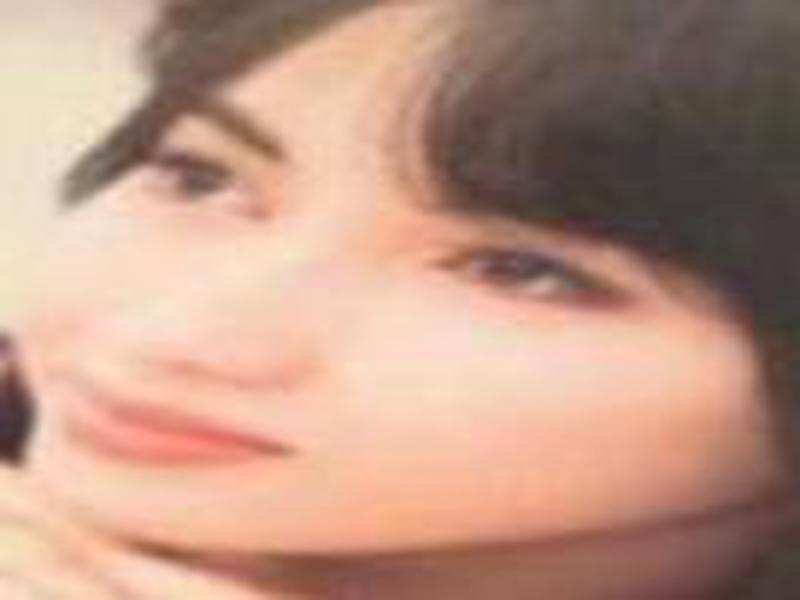without_mask: (14, 38, 700, 572)
